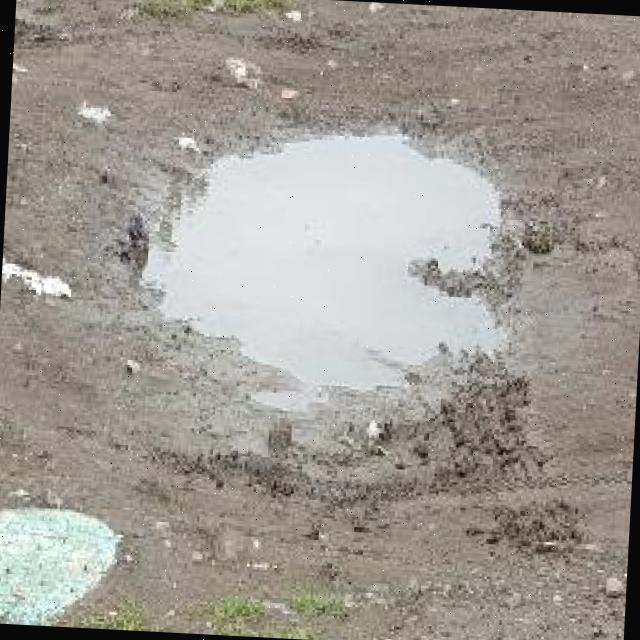stagnation: (144, 102, 548, 434)
